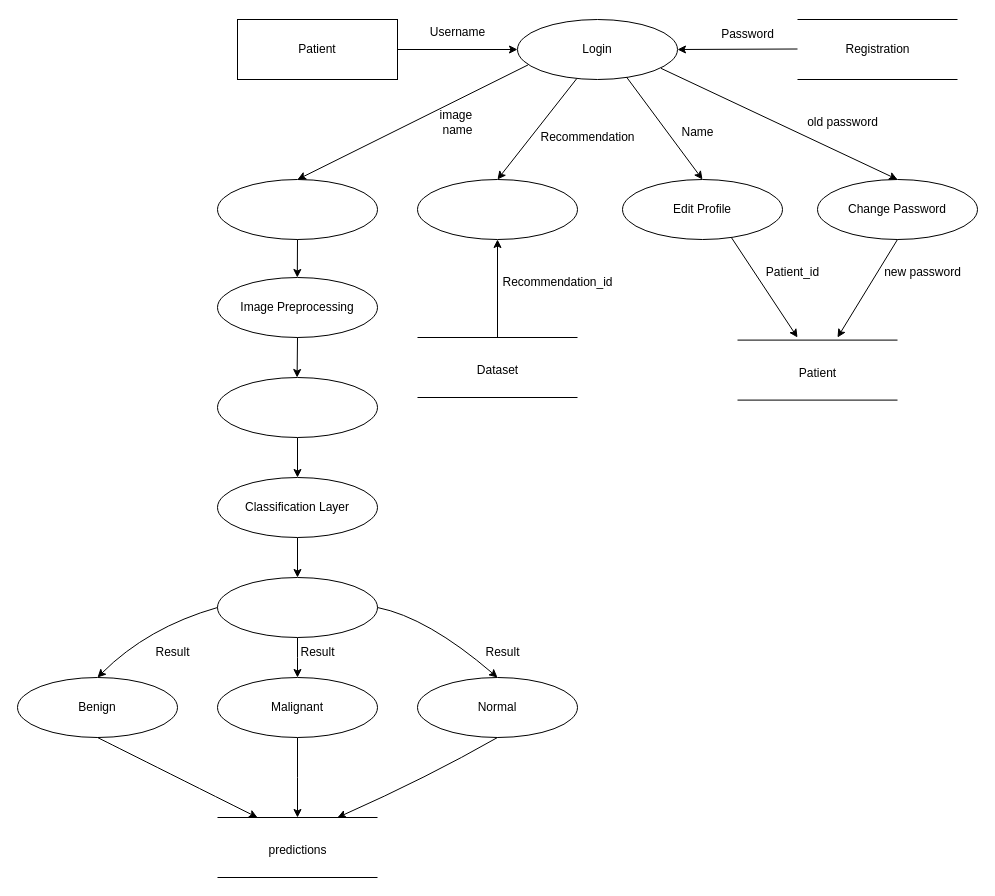
Image size: 995x896. Some labels were removed from this diagram. The shapes that lost their labels are listed below. From the top down, each one's box as (x1, y1, x2, y2) in pixels, then its label:
(216, 178, 378, 240): Upload Image
(416, 178, 578, 240): View Recommendation
(216, 376, 378, 438): CNN Feature Extraction
(216, 576, 378, 638): Display Diagnosis
